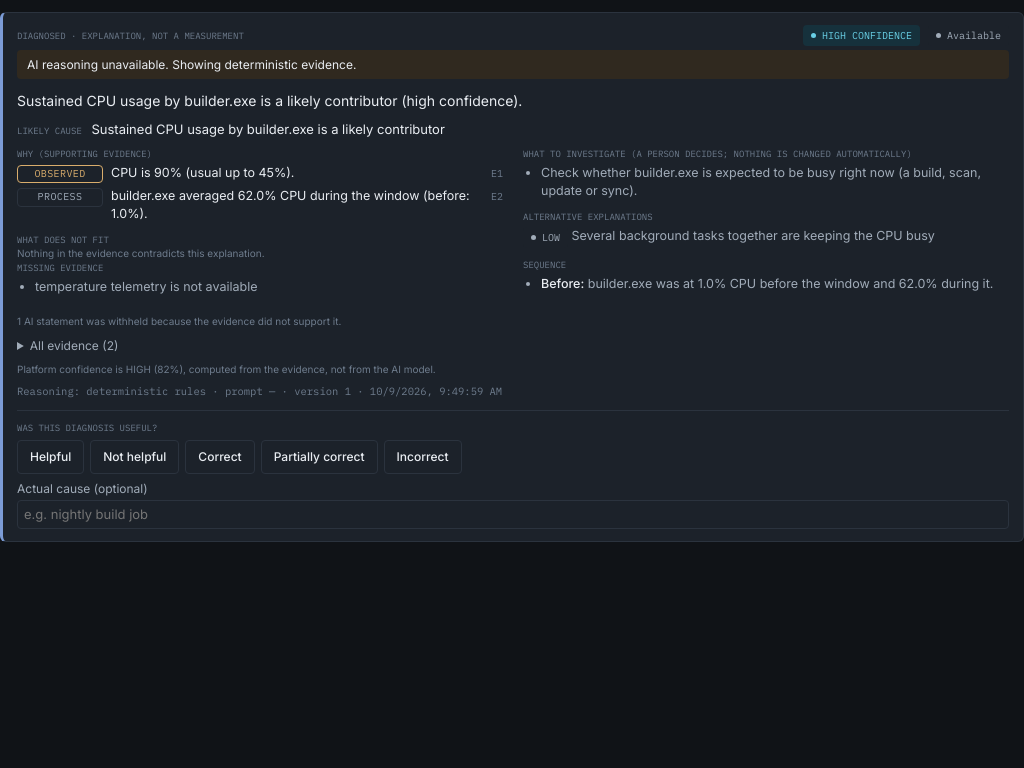
it: diagnosis panel › is read-only for viewers and shows the current version with feedback
Expected: the text "HIGH CONFIDENCE" is shown, [803, 25, 920, 46]
Click the button "Correct".
click(220, 457)  # box [185, 440, 255, 474]
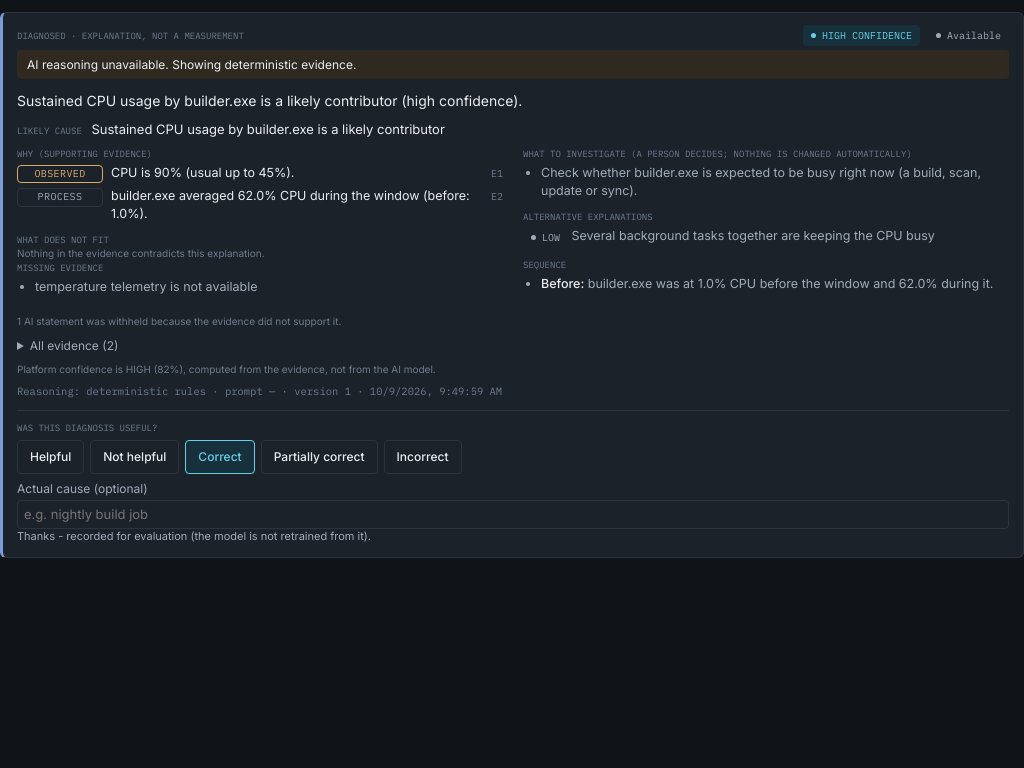
Result: the text "recorded for evaluation" is shown at [17, 529, 371, 543]
